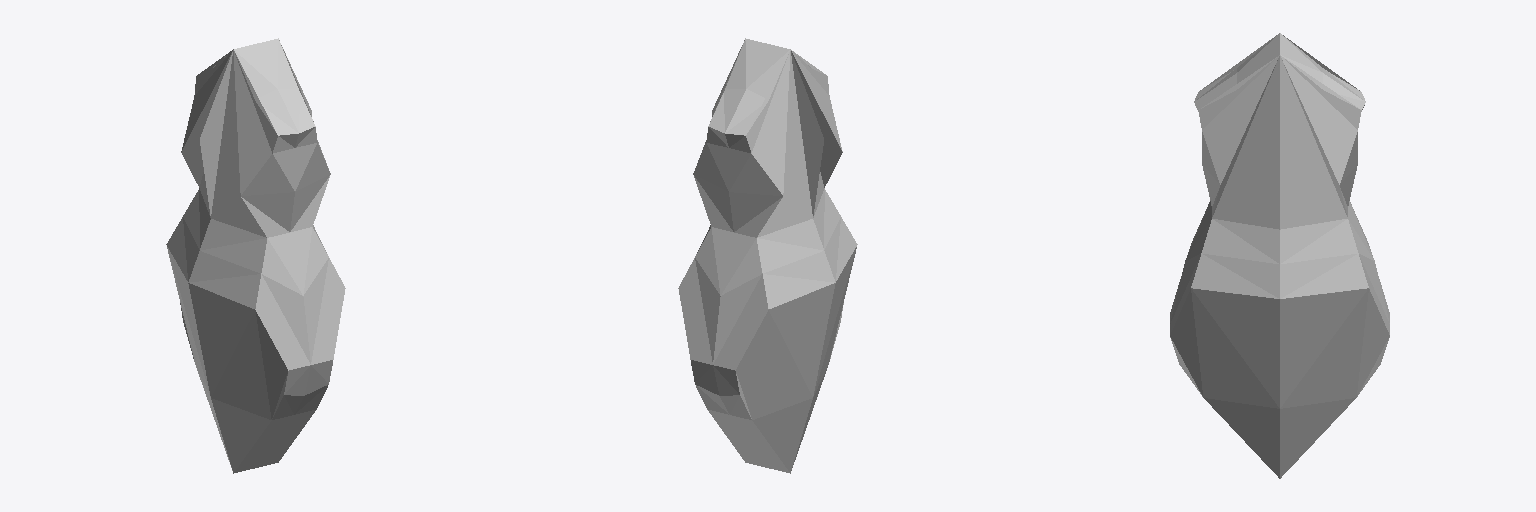
The model's file is crystal.obj.
The picture shows the model from 3 angles: view 1: azimuth 30°, elevation 25°; view 2: azimuth 150°, elevation 25°; view 3: azimuth 270°, elevation 25°; orthographic projection.
Visible parts, largest first — view 1: Circle.003_Circle.004; view 2: Circle.003_Circle.004; view 3: Circle.003_Circle.004.
Boxes of the visible parts, <box> form: Circle.003_Circle.004: <box>166,38,345,473</box>; Circle.003_Circle.004: <box>678,38,857,473</box>; Circle.003_Circle.004: <box>1170,33,1389,478</box>.
Size of the model in its own units: 0.6 by 1.8 by 0.8451.